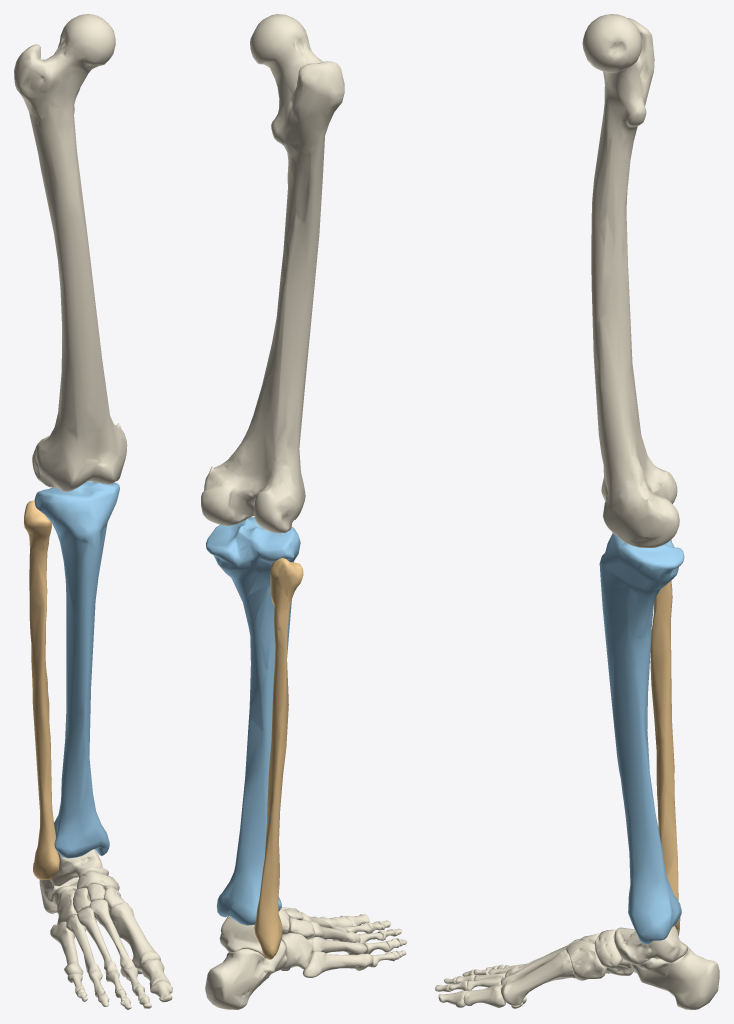
The model's file is knee-source-controls.glb.
The picture shows the model from 3 angles, left to right: view 1: azimuth 30°, elevation 25°; view 2: azimuth 150°, elevation 25°; view 3: azimuth 270°, elevation 25°; orthographic projection. The views are drawn at different scales.
Parts seen in each view (by area): view 1: Femur.r-knee-controls, Tibia.r-knee-controls, Fibula.r-knee-controls, First metatarsal bone.r-knee-controls, Talus.r-knee-controls, Second metatarsal bone.r-knee-controls, Fifth metatarsal bone.r-knee-controls, Third metatarsal bone.r-knee-controls, Calcaneus.r-knee-controls, Fourth metatarsal bone.r-knee-controls, Navicular bone.r-knee-controls, Proximal phalanx of first finger of foot-knee-controls (+1 smaller); view 2: Femur.r-knee-controls, Tibia.r-knee-controls, Fibula.r-knee-controls, Calcaneus.r-knee-controls, Fifth metatarsal bone.r-knee-controls, Talus.r-knee-controls, Cuboid bone.r-knee-controls, Fourth metatarsal bone.r-knee-controls, Third metatarsal bone.r-knee-controls; view 3: Femur.r-knee-controls, Tibia.r-knee-controls, Fibula.r-knee-controls, Calcaneus.r-knee-controls, Talus.r-knee-controls, First metatarsal bone.r-knee-controls, Medial cuneiform bone.r-knee-controls, Navicular bone.r-knee-controls, Proximal phalanx of first finger of foot-knee-controls.
Boxes of the visible parts, x1,y1,x2,y2 form: Femur.r-knee-controls: (14,14,127,491); Tibia.r-knee-controls: (34,481,119,858); Fibula.r-knee-controls: (24,500,59,880); First metatarsal bone.r-knee-controls: (109,902,160,969); Talus.r-knee-controls: (50,849,108,886); Second metatarsal bone.r-knee-controls: (89,899,134,977); Fifth metatarsal bone.r-knee-controls: (50,921,83,975); Third metatarsal bone.r-knee-controls: (77,907,117,975); Calcaneus.r-knee-controls: (39,877,78,913); Fourth metatarsal bone.r-knee-controls: (66,914,100,974); Navicular bone.r-knee-controls: (77,871,119,890); Proximal phalanx of first finger of foot-knee-controls: (141,958,170,989); Femur.r-knee-controls: (201,14,344,533); Tibia.r-knee-controls: (206,517,300,925); Fibula.r-knee-controls: (254,558,303,959); Calcaneus.r-knee-controls: (205,940,286,1009); Fifth metatarsal bone.r-knee-controls: (302,951,373,977); Talus.r-knee-controls: (219,916,265,958); Cuboid bone.r-knee-controls: (281,933,313,970); Fourth metatarsal bone.r-knee-controls: (308,937,366,954); Third metatarsal bone.r-knee-controls: (306,921,360,942); Femur.r-knee-controls: (582,14,679,547); Tibia.r-knee-controls: (599,533,684,944); Fibula.r-knee-controls: (650,539,680,935); Calcaneus.r-knee-controls: (631,944,719,1009); Talus.r-knee-controls: (614,926,687,965); First metatarsal bone.r-knee-controls: (501,950,575,1005); Medial cuneiform bone.r-knee-controls: (566,940,606,980); Navicular bone.r-knee-controls: (595,929,622,968); Proximal phalanx of first finger of foot-knee-controls: (463,985,505,1007).
Bounding box in the file's own units: 0.1166 × 0.8751 × 0.2289.
